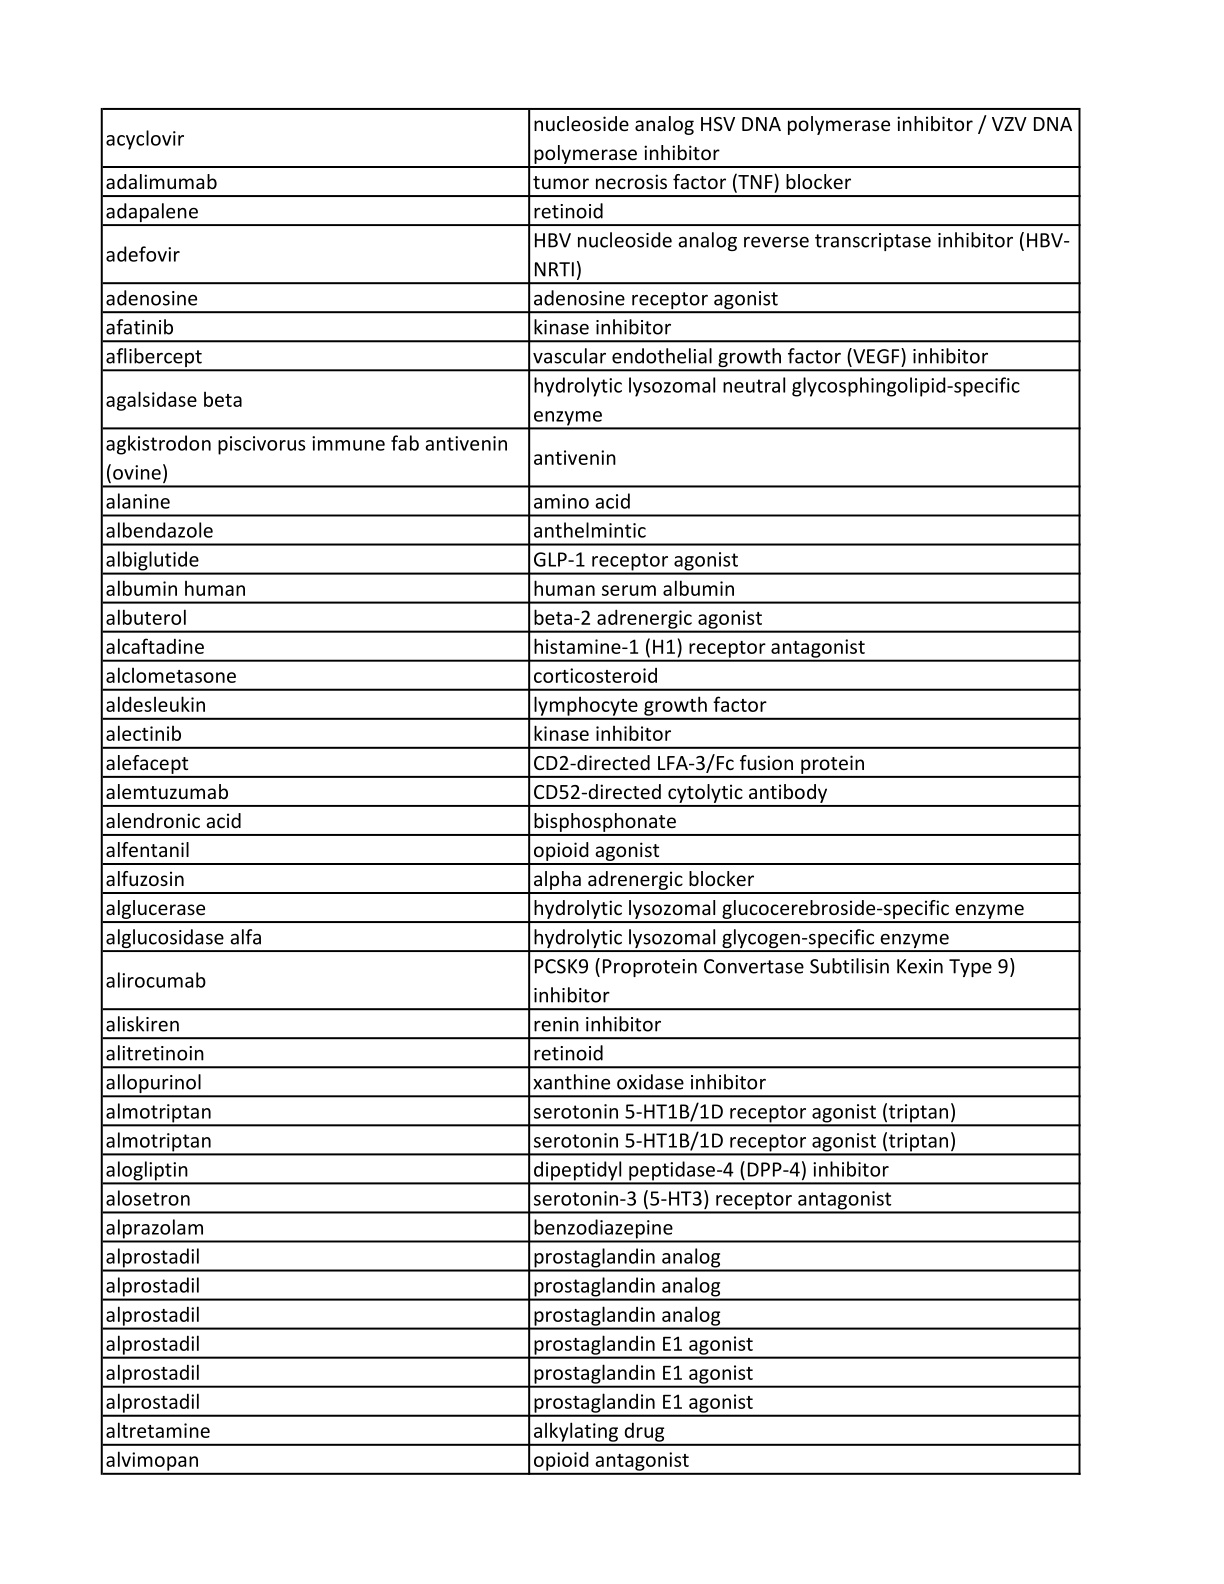full_lined: (100, 108, 1081, 1475)
